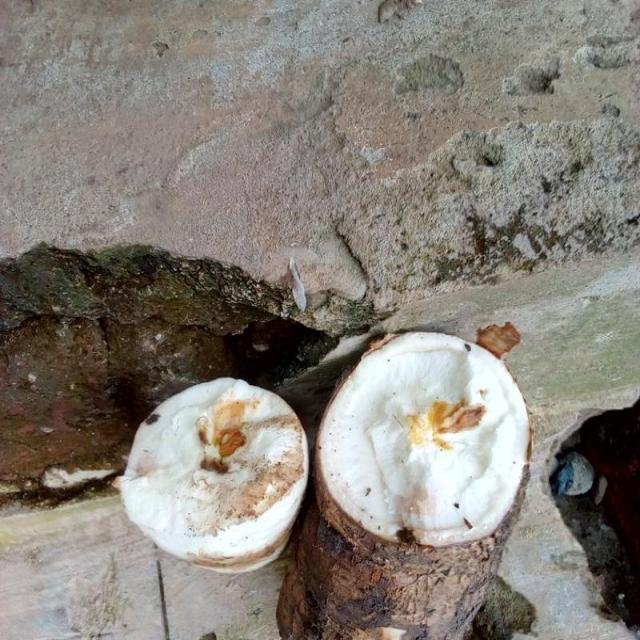cassava leaf: (314, 328, 532, 550), (120, 374, 310, 574)
